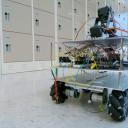cart: (48, 37, 128, 122)
